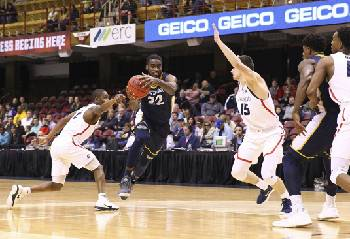Geico: (150, 1, 350, 38)
